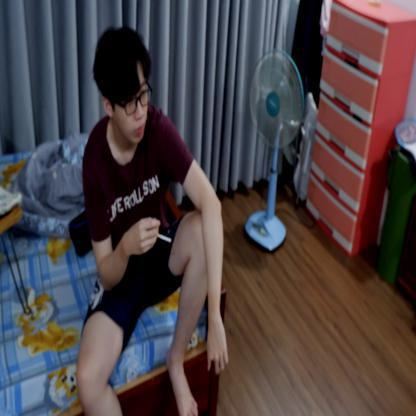cigarette: (156, 232, 173, 244)
person: (74, 21, 225, 416)
